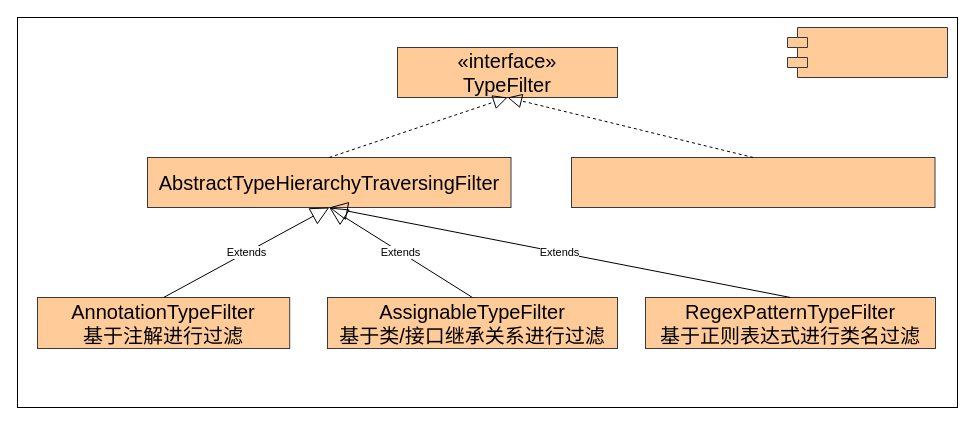
Image size: 975x425. Some labels were removed from this diagram. The centre of each missing label's shape, as x and y in pixels:
AspectJTypeFilter AspectJ类型模式进行过滤: the point at 752,182
spring: the point at 867,52
